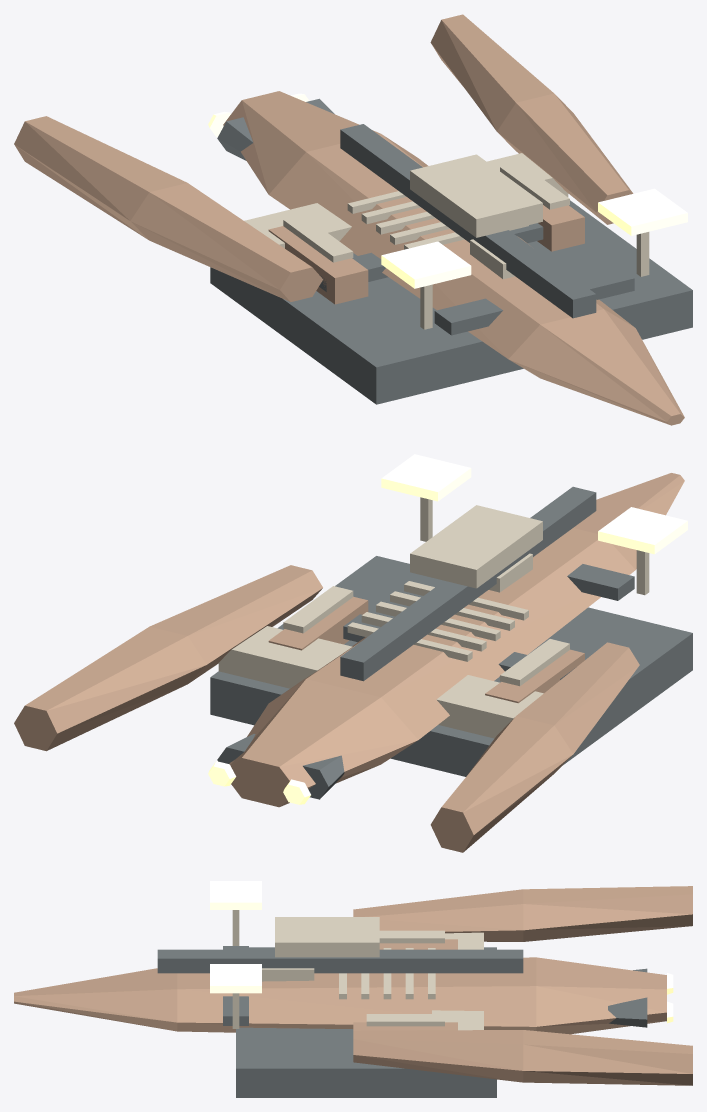
3 views of the same model, one above another, from view 1: azimuth 30°, elevation 25°; view 2: azimuth 150°, elevation 25°; view 3: azimuth 270°, elevation 25° (orthographic). The views are drawn at different scales.
Size of the model in its own units: 6.07 by 1.72 by 9.88.
